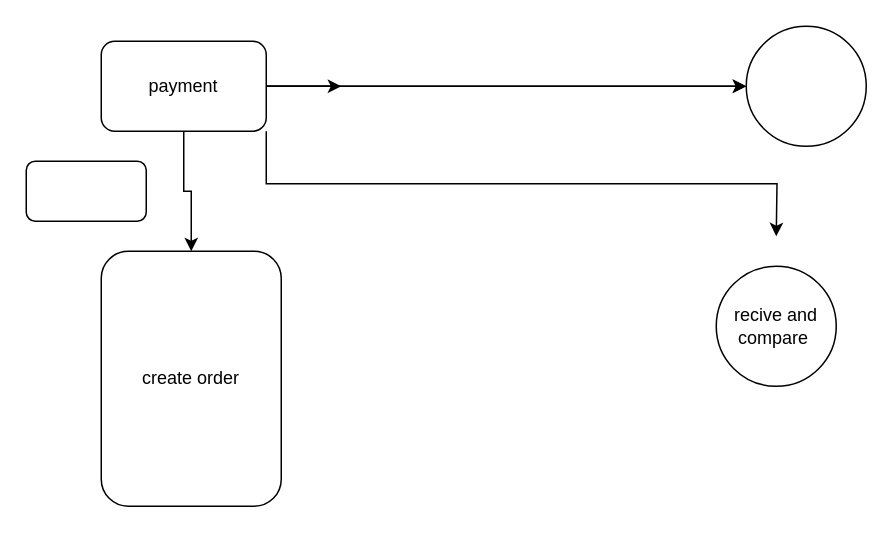
The diagram is 893 pixels wide and 533 high, and some of its shapes have lost their labels. Here are the shapes that lost their labels. From the top down, the centre of each, then its label:
At point 805,85: "send data".
At point 85,190: "data valide for user".
